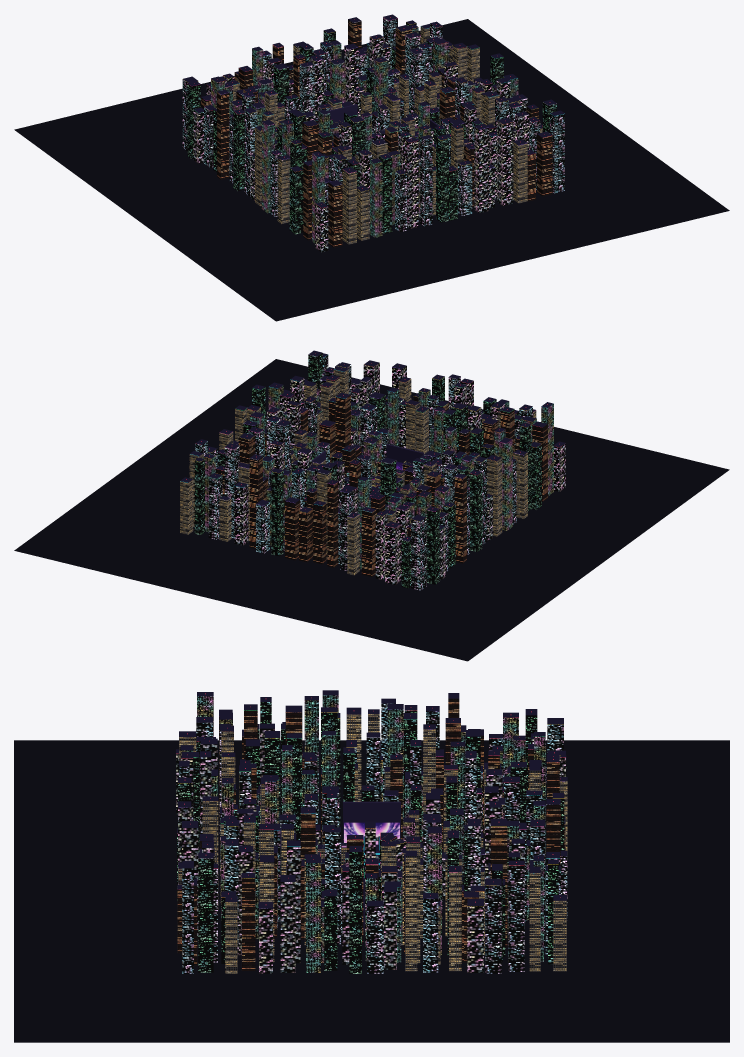
File: street.glb
3 renders of one model, top to bottom at view 1: azimuth 30°, elevation 25°; view 2: azimuth 150°, elevation 25°; view 3: azimuth 270°, elevation 25°, orthographic. The views are drawn at different scales.
Parts seen in each view (by area): view 1: mesh__ground_far, mesh__fac_1, mesh__fac_0, mesh__fac_3, mesh__fac_5, mesh__roof, mesh__fac_2, mesh__fac_4; view 2: mesh__ground_far, mesh__fac_4, mesh__fac_1, mesh__fac_5, mesh__roof, mesh__fac_3, mesh__fac_2, mesh__fac_0, mesh__monument; view 3: mesh__ground_far, mesh__fac_1, mesh__roof, mesh__fac_3, mesh__fac_2, mesh__fac_5, mesh__fac_0, mesh__fac_4, mesh__monument, mesh__bb_castle.
Boxes of the visible parts, x1,y1,x2,y2 form: mesh__ground_far: (14,19,729,321); mesh__fac_1: (182,17,564,231); mesh__fac_0: (193,37,529,252); mesh__fac_3: (229,26,542,244); mesh__fac_5: (187,22,556,234); mesh__roof: (183,14,564,207); mesh__fac_2: (211,27,518,243); mesh__fac_4: (201,19,552,247); mesh__ground_far: (14,359,729,661); mesh__fac_4: (215,380,547,576); mesh__fac_1: (195,355,532,590); mesh__fac_5: (194,353,541,588); mesh__roof: (180,350,565,541); mesh__fac_3: (180,369,536,575); mesh__fac_2: (203,385,553,569); mesh__fac_0: (217,363,565,584); mesh__monument: (312,444,423,464); mesh__ground_far: (14,740,729,1042); mesh__fac_1: (179,703,567,973); mesh__roof: (176,690,567,908); mesh__fac_3: (178,714,567,973); mesh__fac_2: (180,695,545,972); mesh__fac_5: (177,702,566,973); mesh__fac_0: (176,728,565,973); mesh__fac_4: (177,698,565,970); mesh__monument: (280,801,400,930); mesh__bb_castle: (344,822,399,844).
Size of the model in its own units: 840 by 161 by 840.
Materials: 76 (46 with a texture image).
